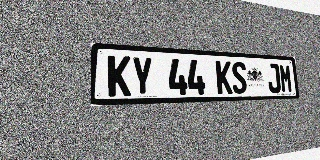4: (168, 58, 188, 95), (187, 59, 206, 95)
J: (267, 63, 281, 93)
K: (108, 55, 131, 97), (215, 61, 233, 94)
M: (279, 64, 293, 93)
S: (231, 61, 247, 94)
Y: (131, 56, 153, 96)
